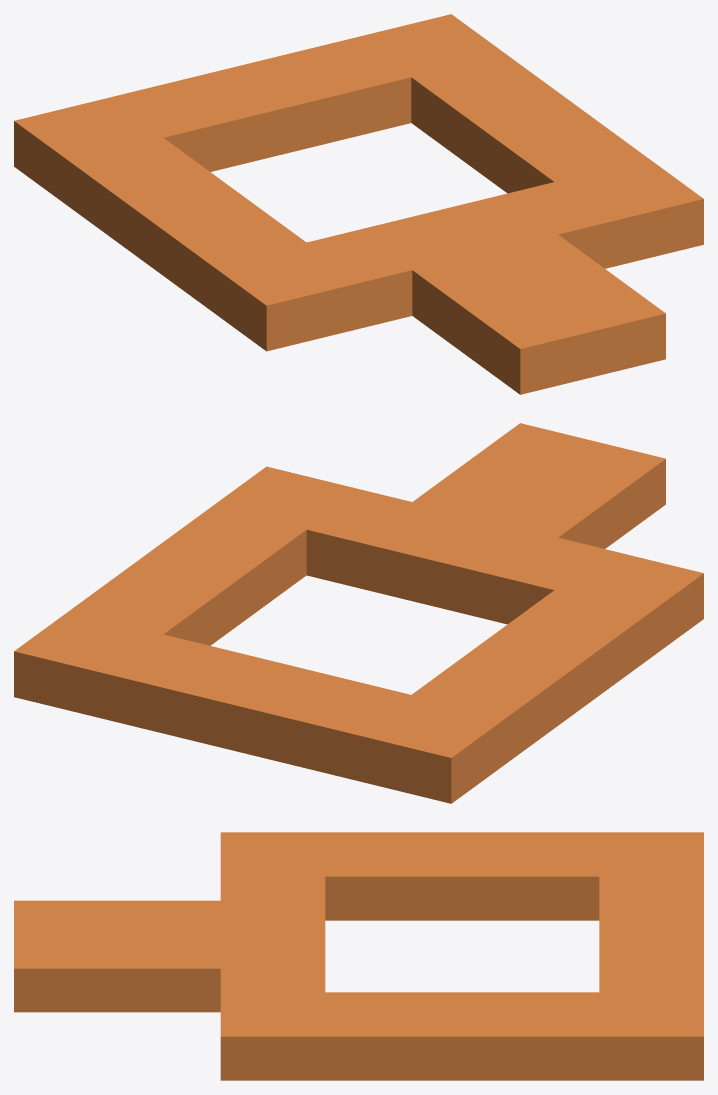
File: platform.glb
3 renders of one model, top to bottom at view 1: azimuth 30°, elevation 25°; view 2: azimuth 150°, elevation 25°; view 3: azimuth 270°, elevation 25°, orthographic. The views are drawn at different scales.
Visible parts, largest first — view 1: Cube; view 2: Cube; view 3: Cube.
Boxes of the visible parts, x1=… form: Cube: x1=14, y1=14, x2=703, y2=394; Cube: x1=14, y1=423, x2=703, y2=803; Cube: x1=14, y1=832, x2=703, y2=1080.
Bounding box in the file's own units: 6 × 0.6 × 8.56.
